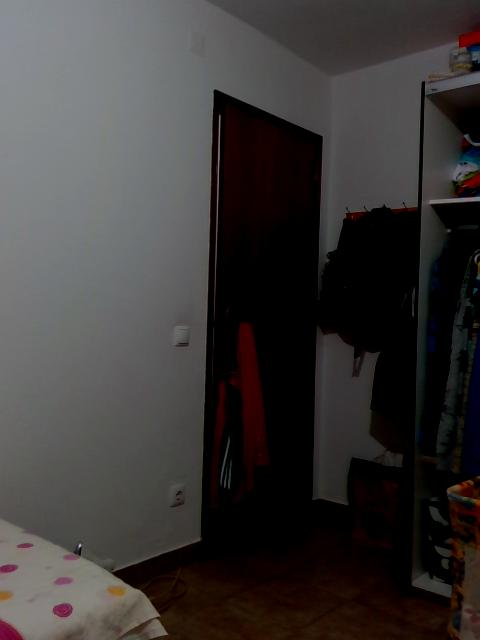closed_door: (197, 86, 323, 555)
